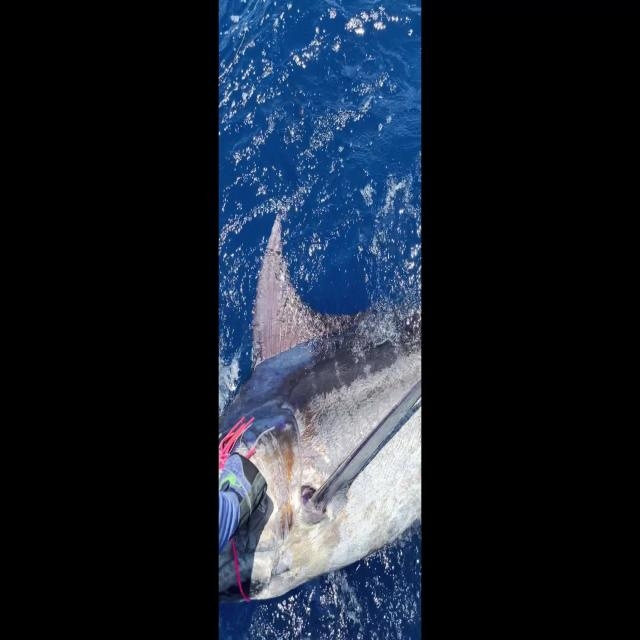Liberacion segura: (218, 210, 422, 608)
